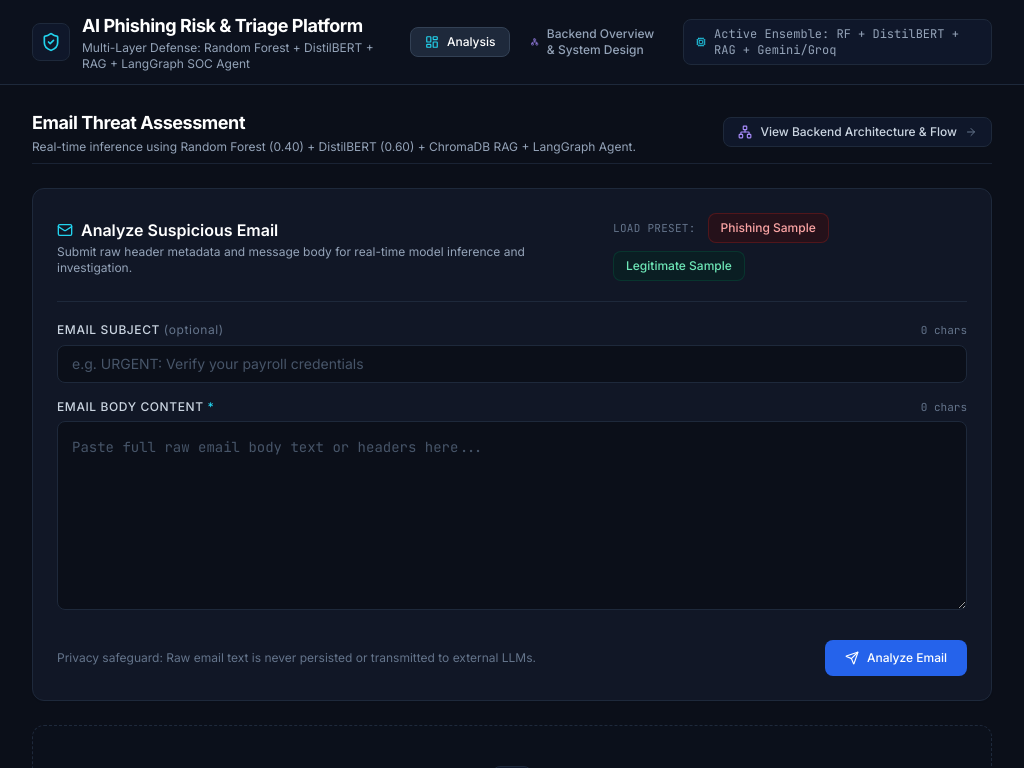
Scenario: App Root Integration Component › submits email, receives API response, and displays full dashboard sections
Type "Please verify your account immediately at http://192.168.1.1:8080/login" into the text box labelled "Email Body Content *" at (512, 516), box [57,421,967,610]
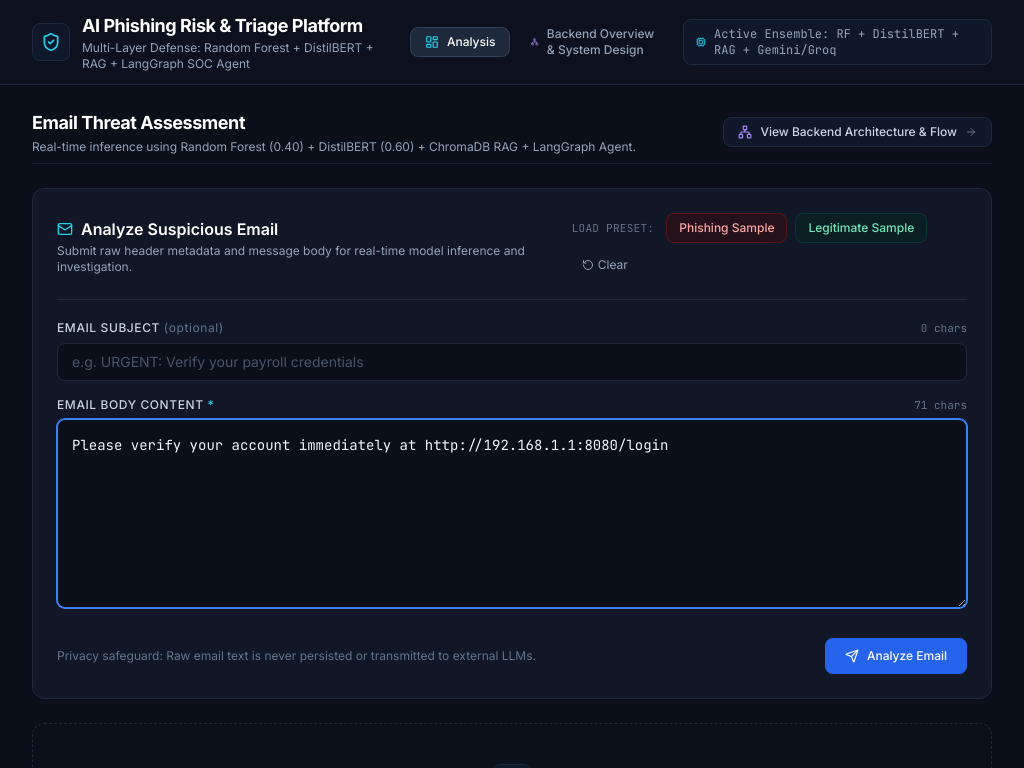
Click the button "Analyze Email" at (896, 656), box [825,638,967,674]
(page scrolled)
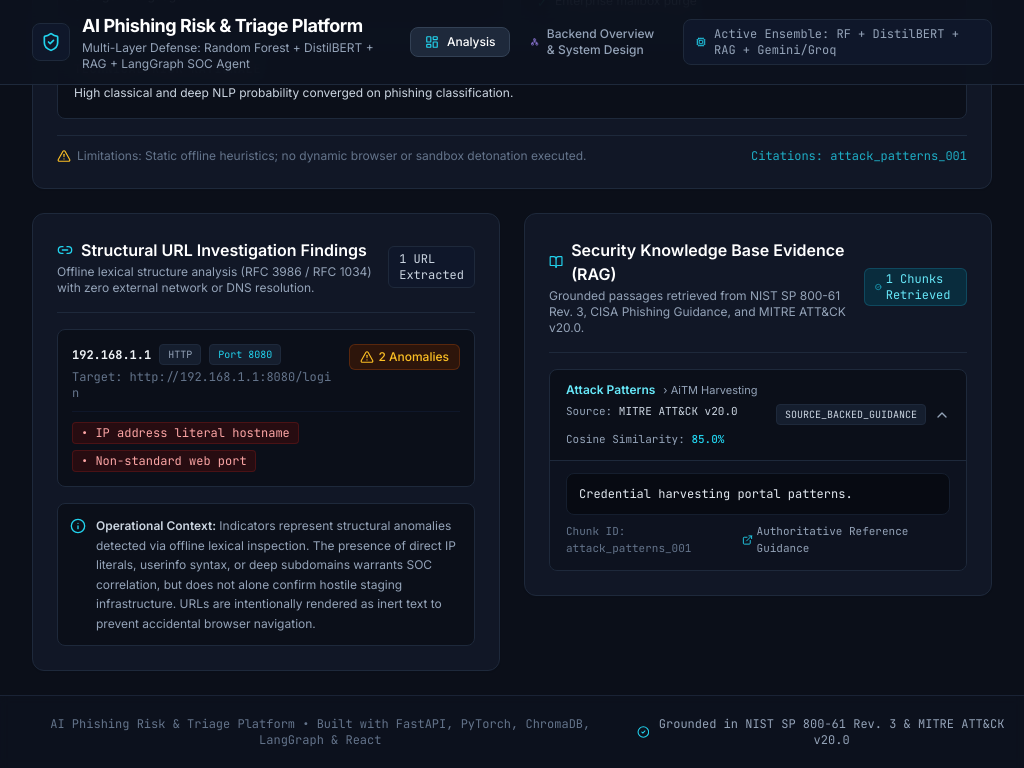
Check: the text "Attack Patterns" is shown, box [566,382,655,398]
